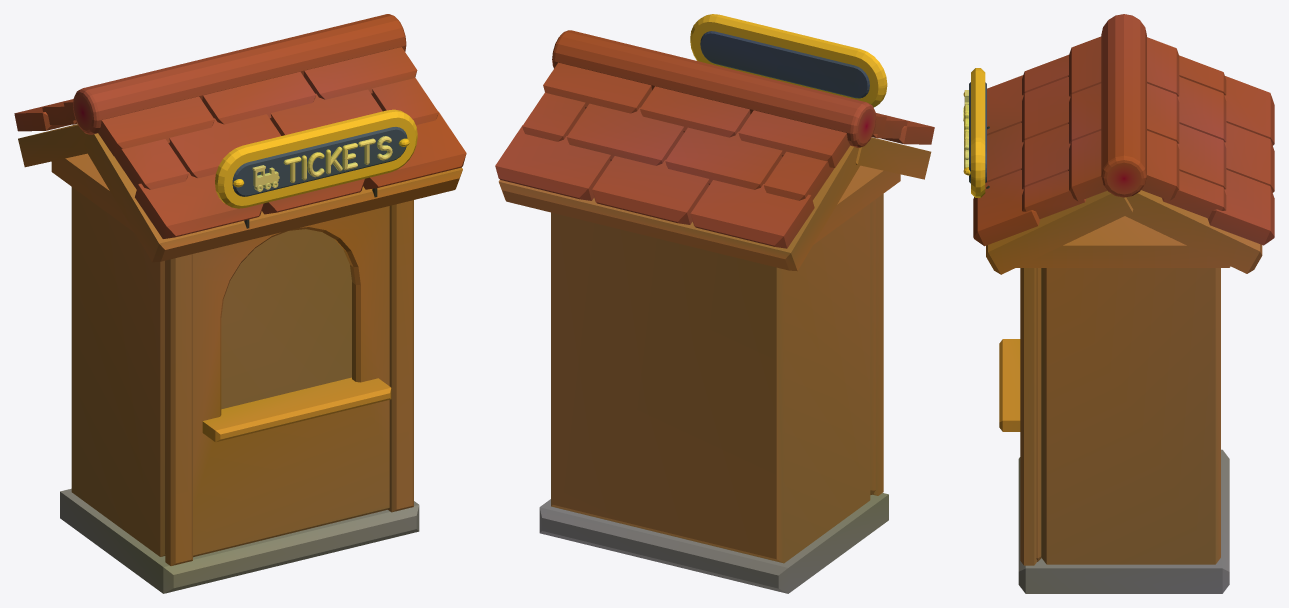
File: Prop_TicketBooth.glb
3 renders of one model, left to right at view 1: azimuth 30°, elevation 25°; view 2: azimuth 150°, elevation 25°; view 3: azimuth 270°, elevation 25°, orthographic. The views are drawn at different scales.
Visible parts, largest first — view 1: Prop_TicketBooth; view 2: Prop_TicketBooth; view 3: Prop_TicketBooth.
Part boxes in pixels (bbox=[...]): Prop_TicketBooth: bbox=[14, 14, 466, 593]; Prop_TicketBooth: bbox=[495, 14, 934, 593]; Prop_TicketBooth: bbox=[963, 14, 1274, 593].
Bounding box in the file's own units: 1.96 × 2.82 × 1.77.
